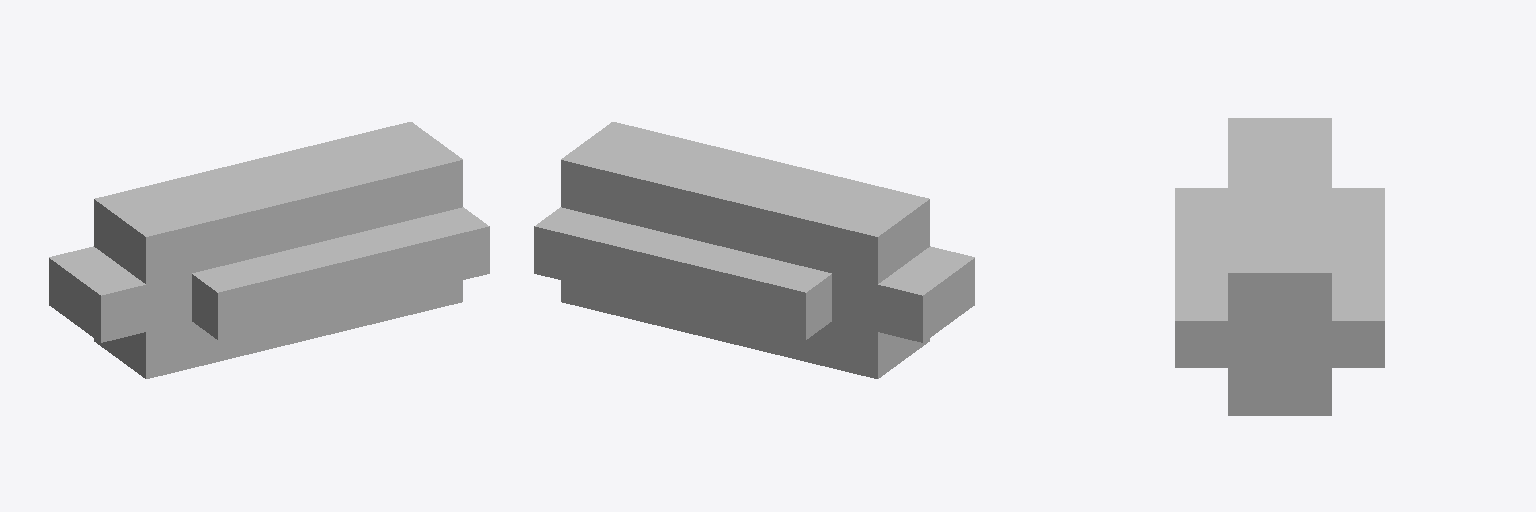
The model's file is bullet1.obj.
3 renders of one model, left to right at view 1: azimuth 30°, elevation 25°; view 2: azimuth 150°, elevation 25°; view 3: azimuth 270°, elevation 25°, orthographic.
Visible parts, largest first — view 1: object 1; view 2: object 1; view 3: object 1.
Boxes of the visible parts, <box> form: object 1: <box>49,122,489,378</box>; object 1: <box>534,122,974,378</box>; object 1: <box>1175,118,1384,415</box>.
Bounding box in the file's own units: 0.8 × 0.3 × 0.4.